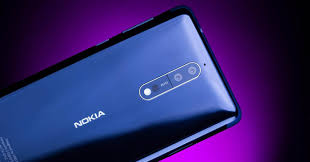nokia: (1, 1, 242, 162)
